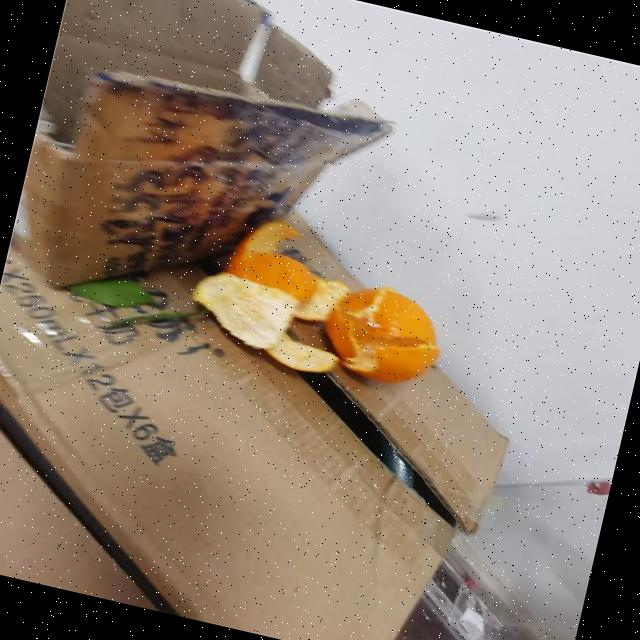orange-peel: (198, 206, 462, 400), (314, 272, 452, 392)
